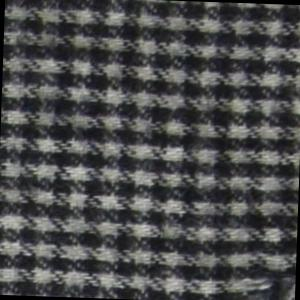Damage: (221, 248, 297, 300)
